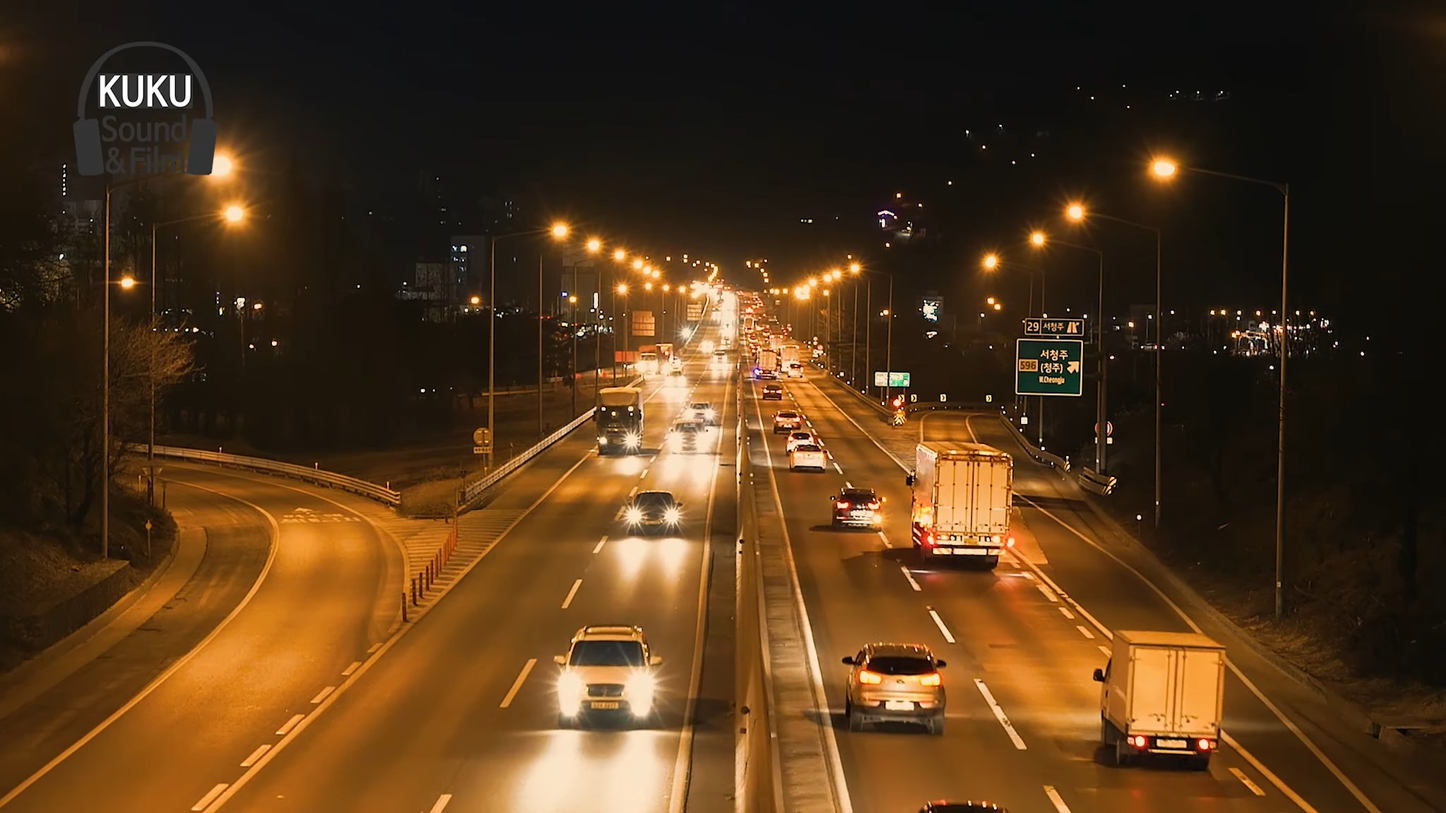car: (551, 621, 660, 728), (848, 639, 952, 731), (625, 484, 677, 538), (836, 485, 880, 532)
truck: (1102, 623, 1229, 771), (911, 438, 1020, 573), (593, 385, 644, 459)
